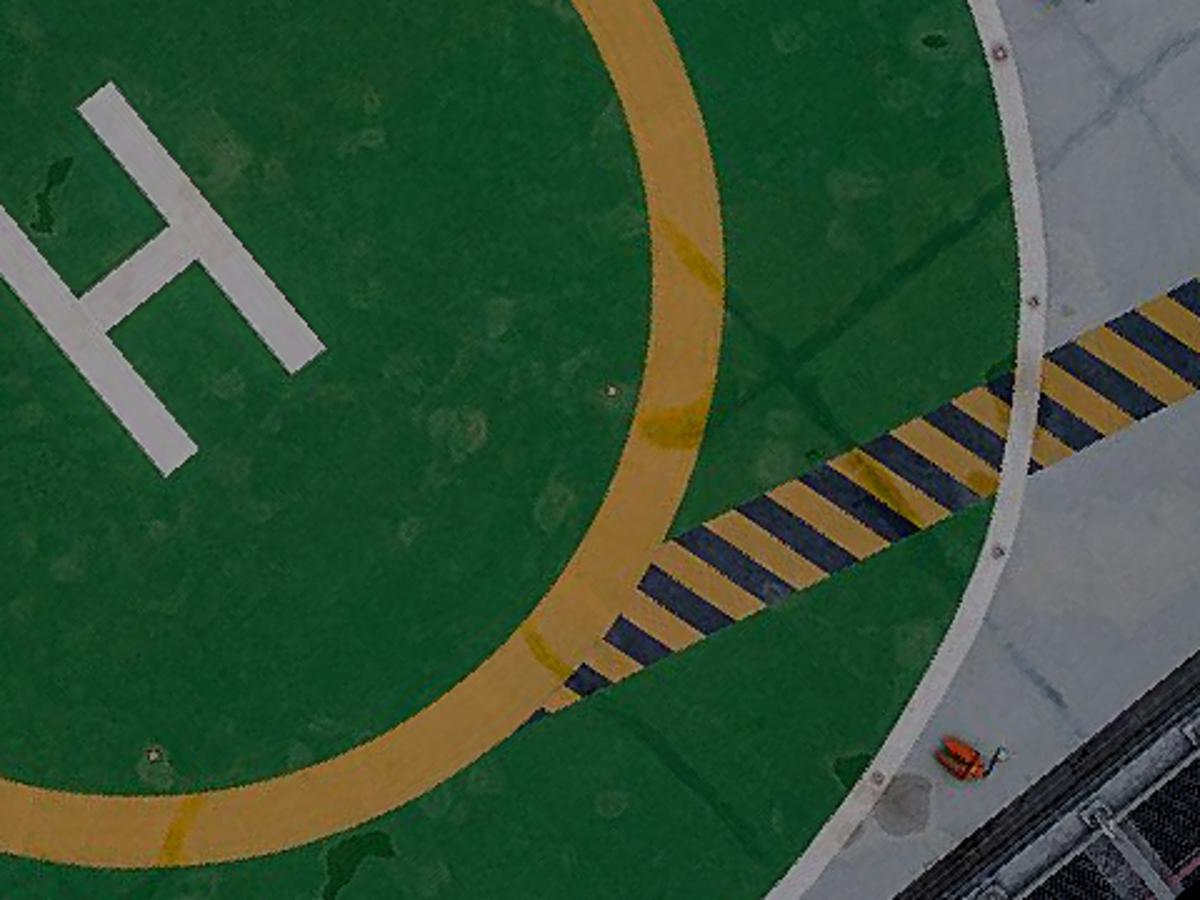Apron: (1, 5, 736, 874)
